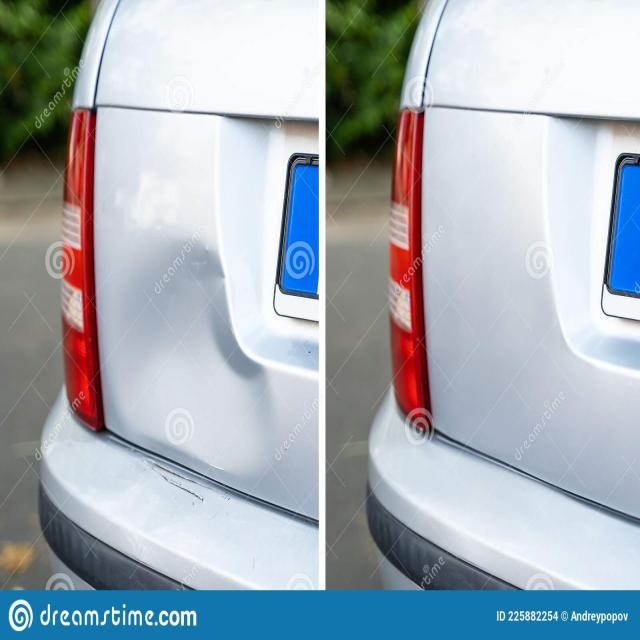dent: (107, 235, 280, 480)
